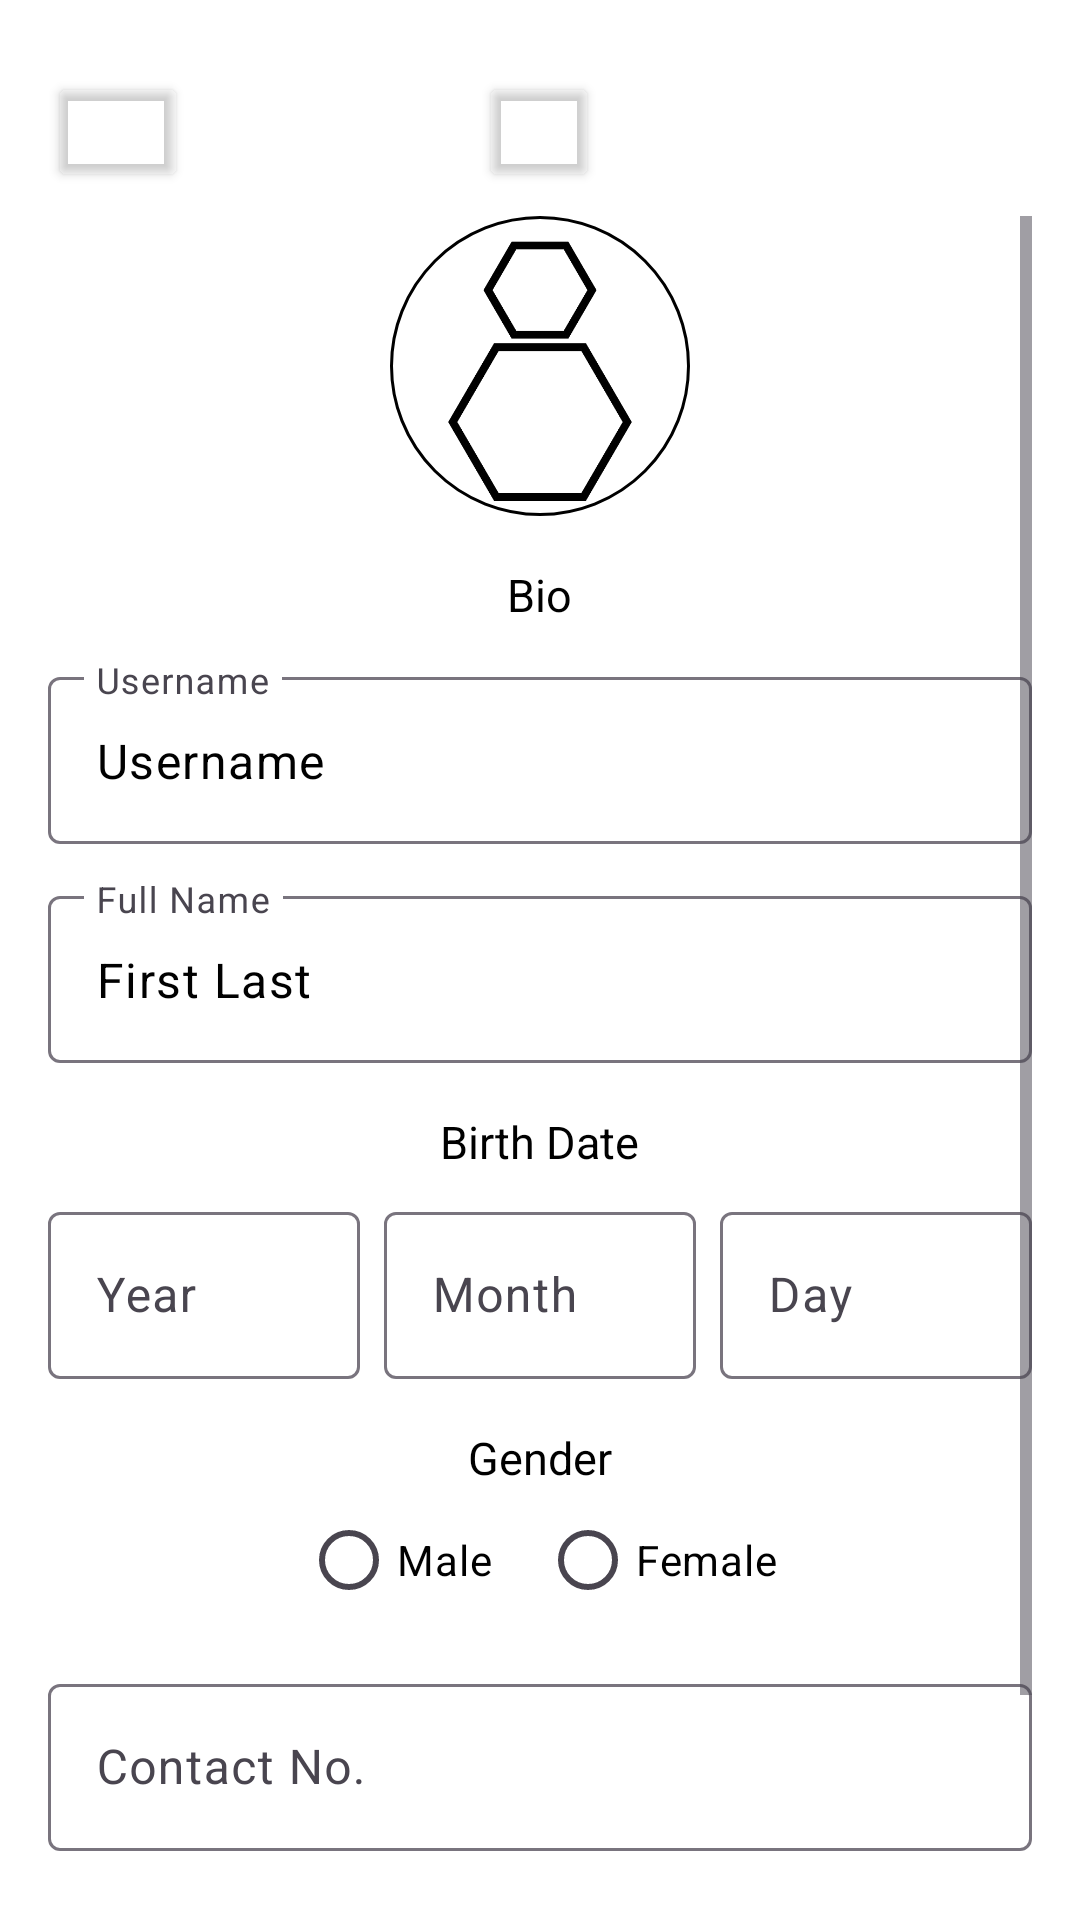

Icons on this 1080w x 1920h Android screen, each with its box as bbox=[x1, y1, x2, y2]:
Profile Picture: bbox=[390, 216, 690, 516]
